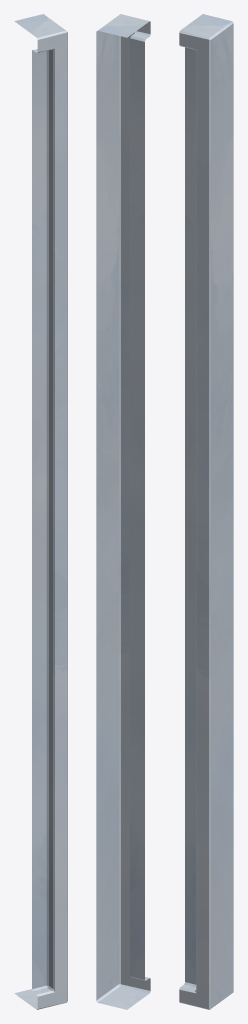
File: Dividing strip.fbx
The picture shows the model from 3 angles, left to right: view 1: azimuth 30°, elevation 25°; view 2: azimuth 150°, elevation 25°; view 3: azimuth 330°, elevation 25°; orthographic projection.
Parts seen in each view (by area): view 1: Dividing strip; view 2: Dividing strip; view 3: Dividing strip.
Boxes of the visible parts, x1,y1,x2,y2 form: Dividing strip: [14, 14, 67, 1009]; Dividing strip: [96, 14, 150, 1009]; Dividing strip: [179, 14, 233, 1009].
Size of the model in its own units: 10 by 300 by 13.23.
